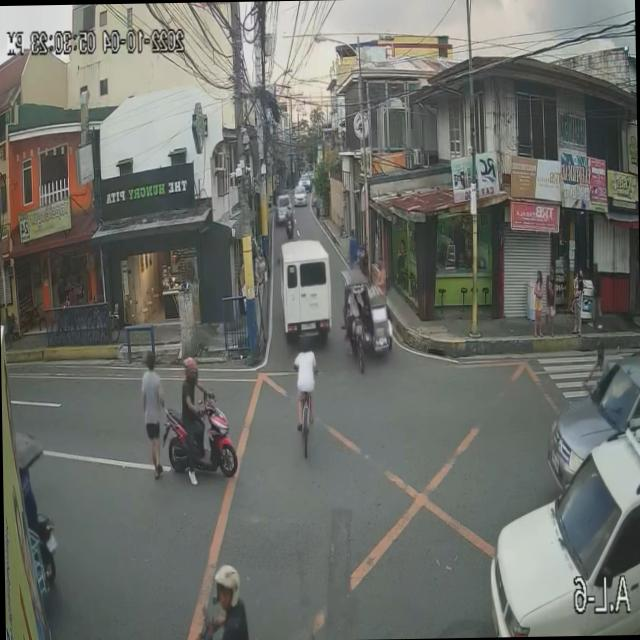full: (182, 356, 198, 386)
half: (212, 564, 240, 610)
